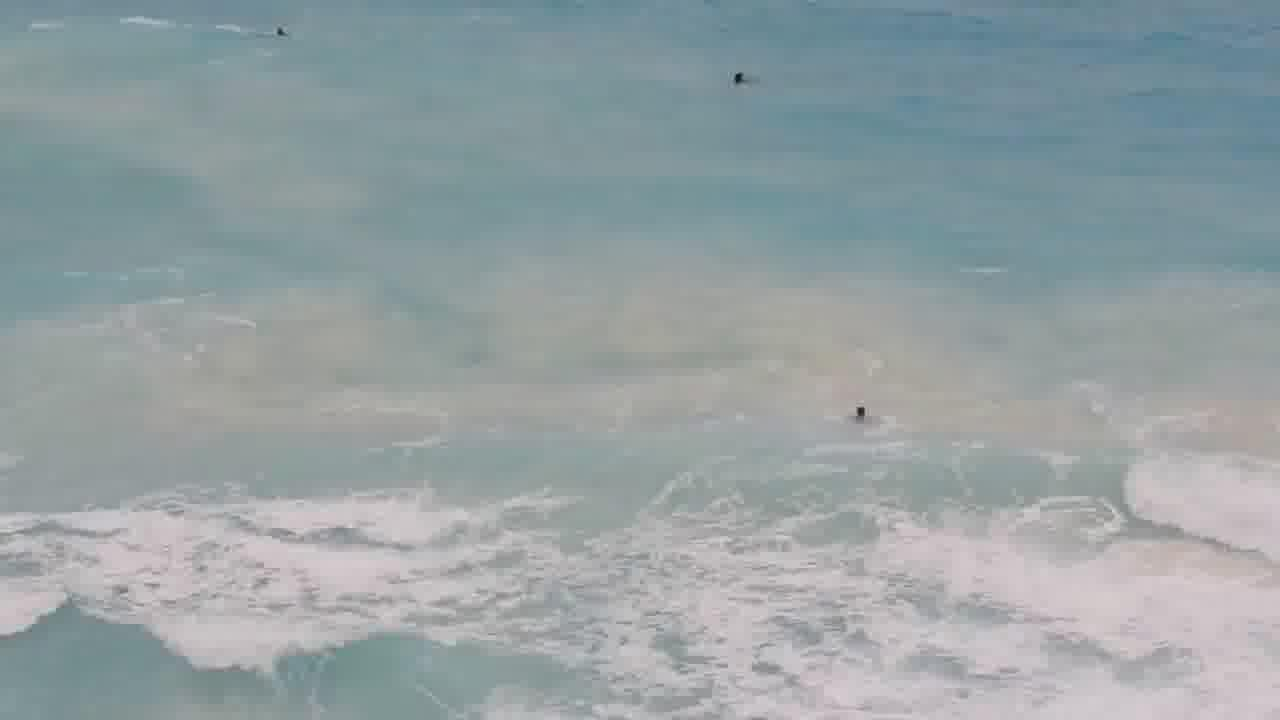swimmer: (711, 58, 769, 97), (841, 397, 886, 438), (251, 21, 294, 48)
